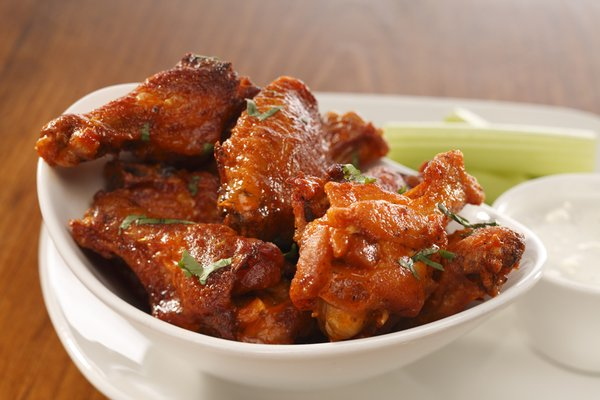sushi: (53, 50, 574, 393), (70, 133, 550, 392), (492, 170, 600, 378)
